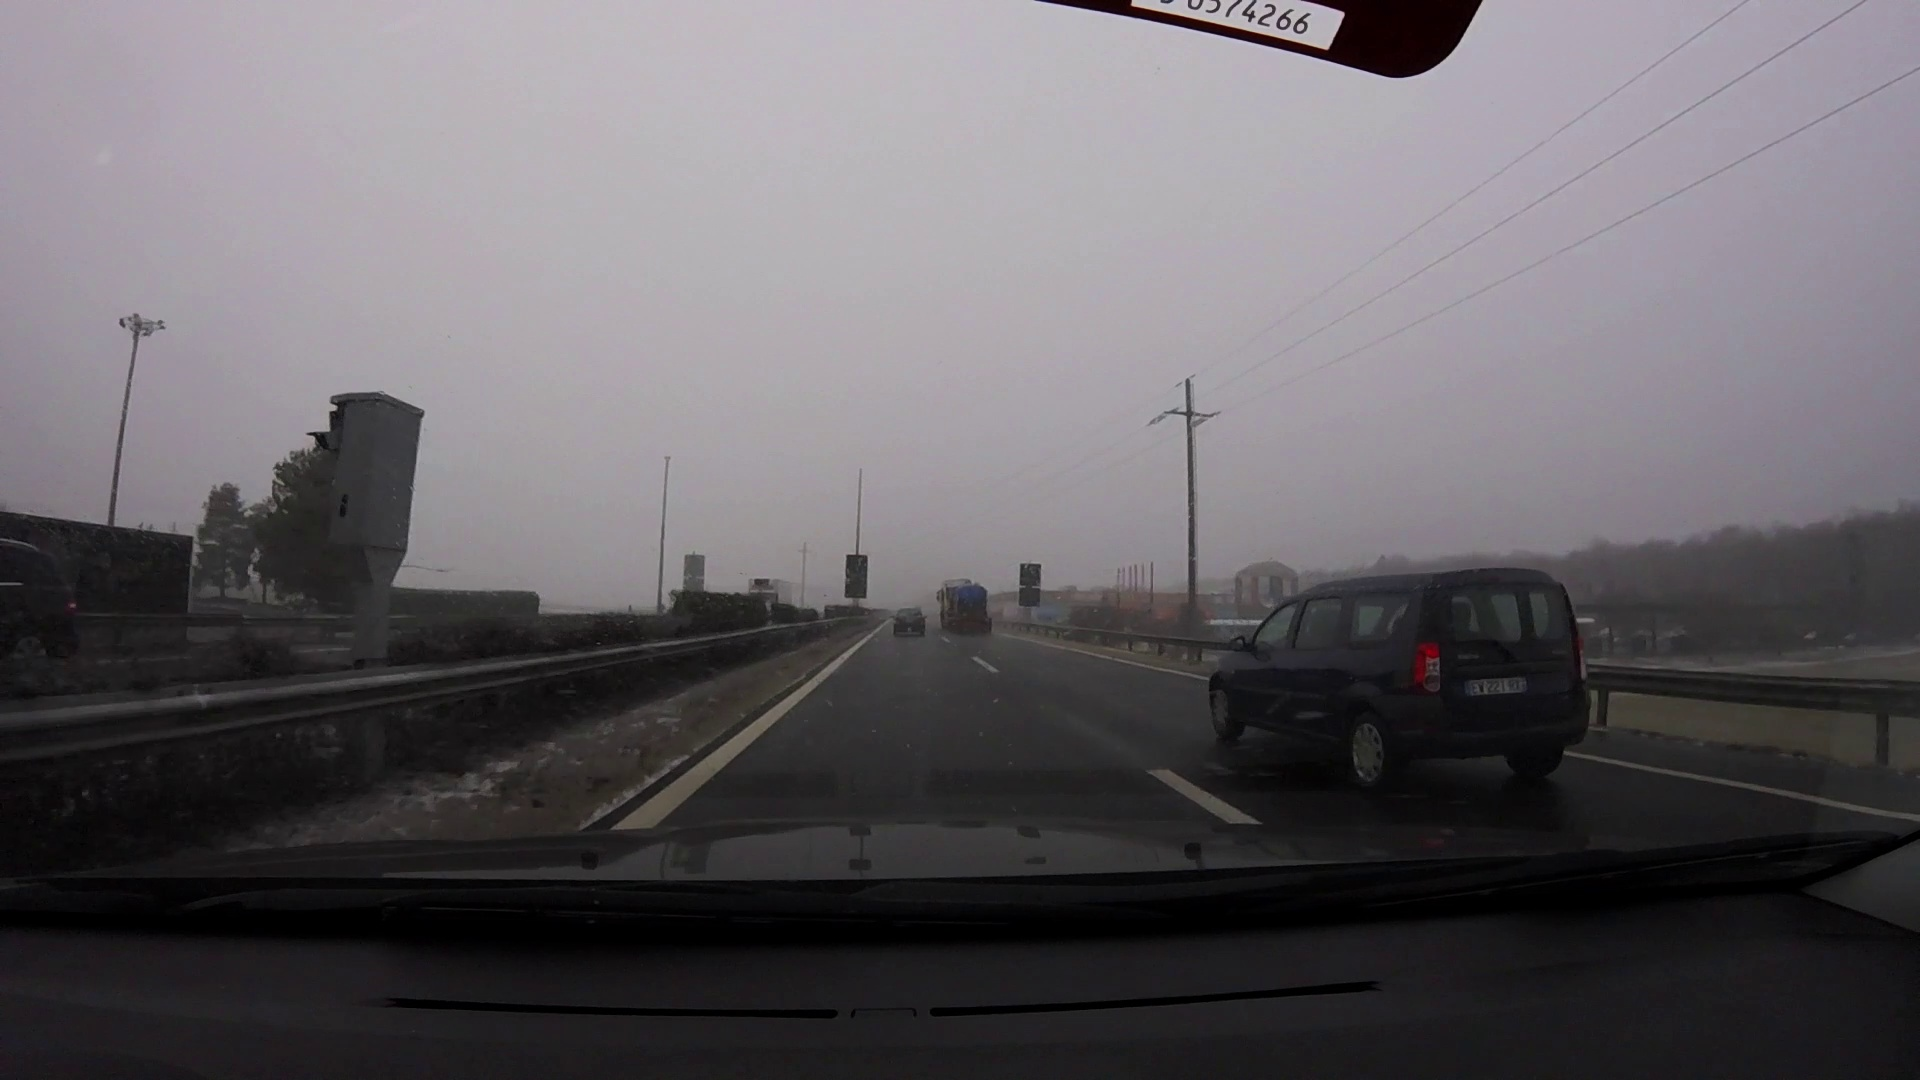radar: (306, 389, 430, 613)
